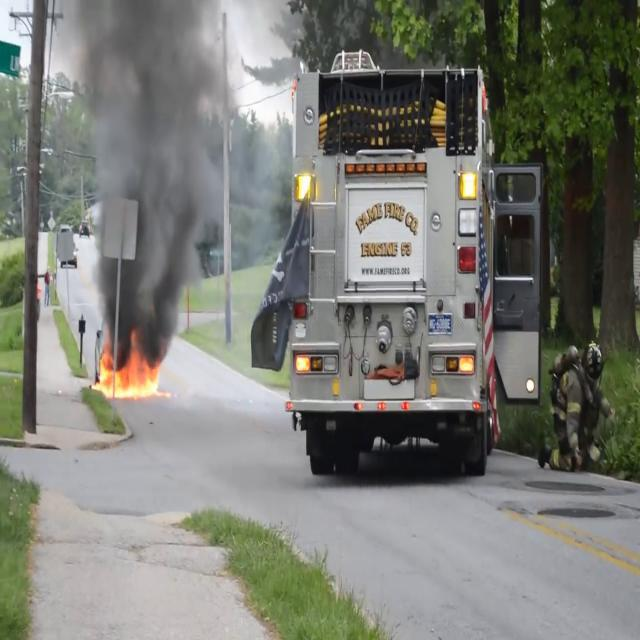Fire: (95, 345, 163, 403)
Smoke: (62, 1, 255, 342)
